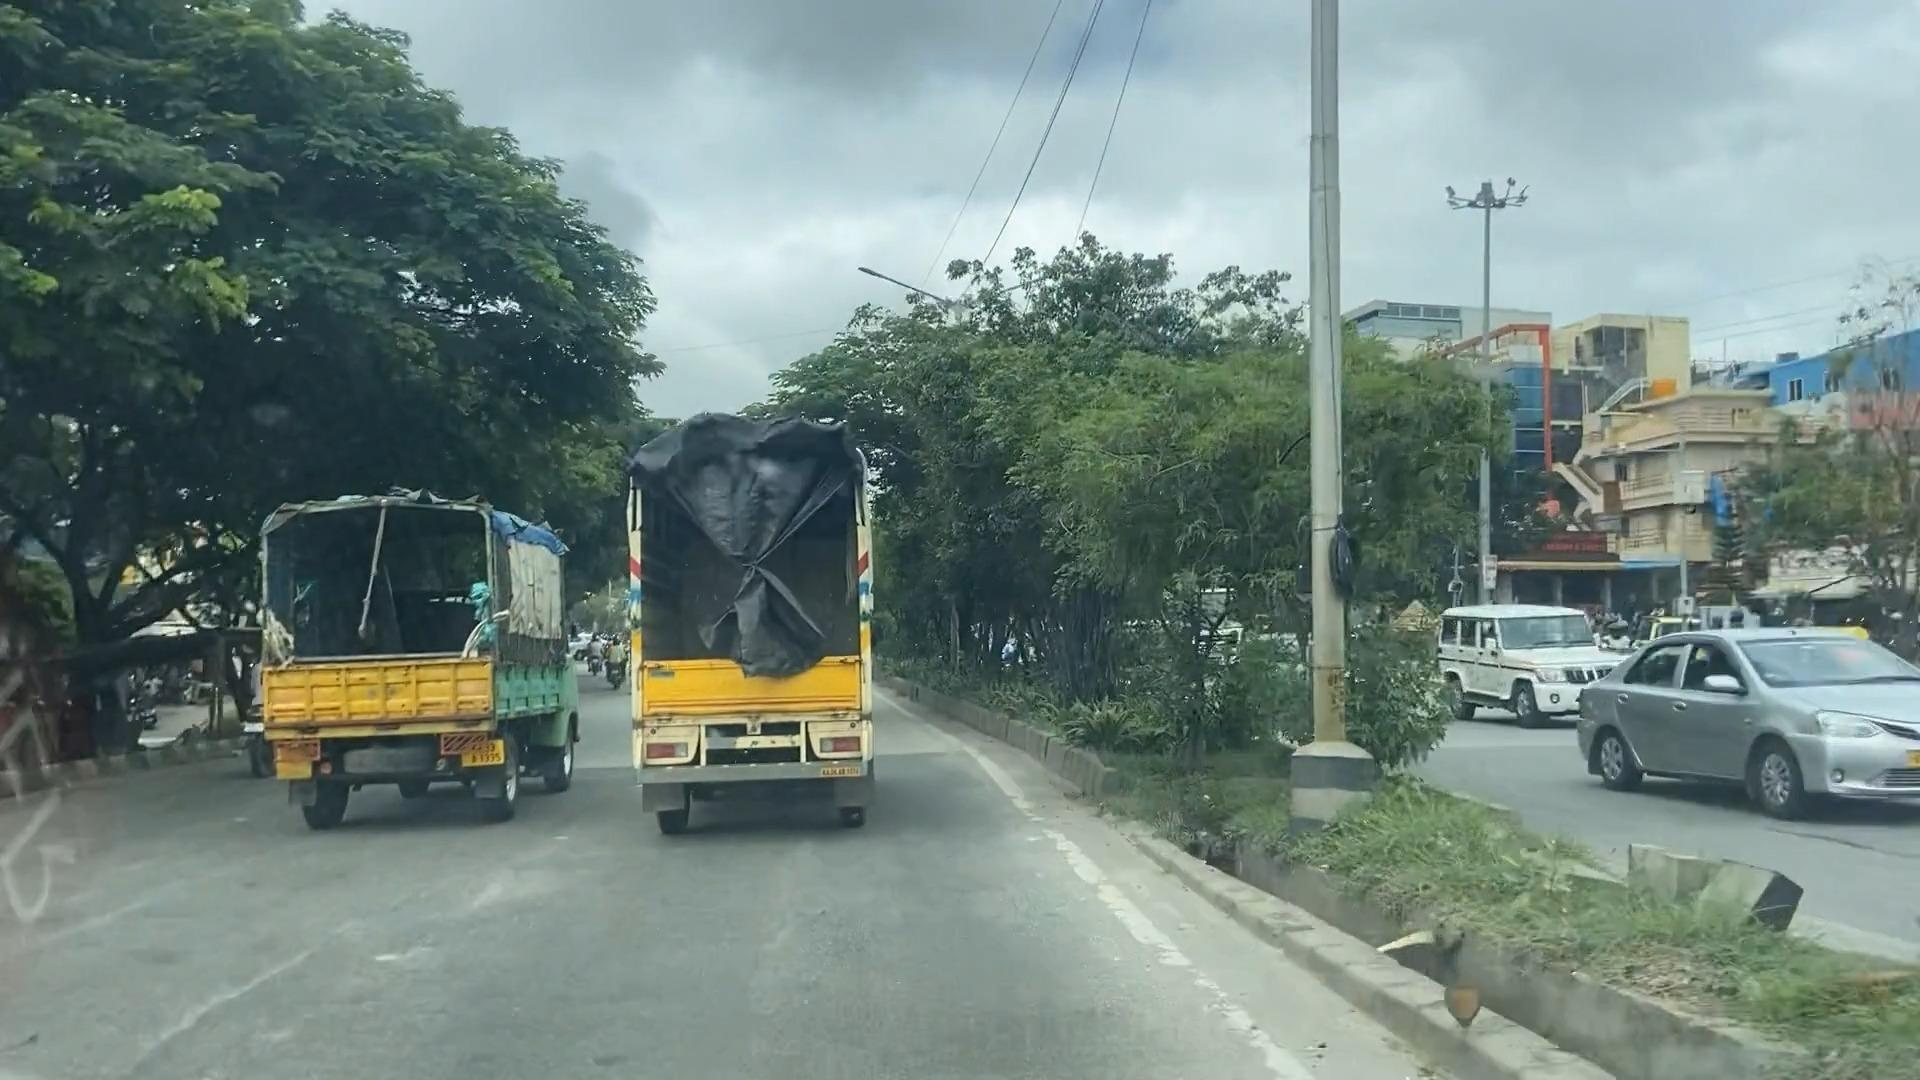HMV: (570, 377, 915, 902), (243, 477, 575, 829)
